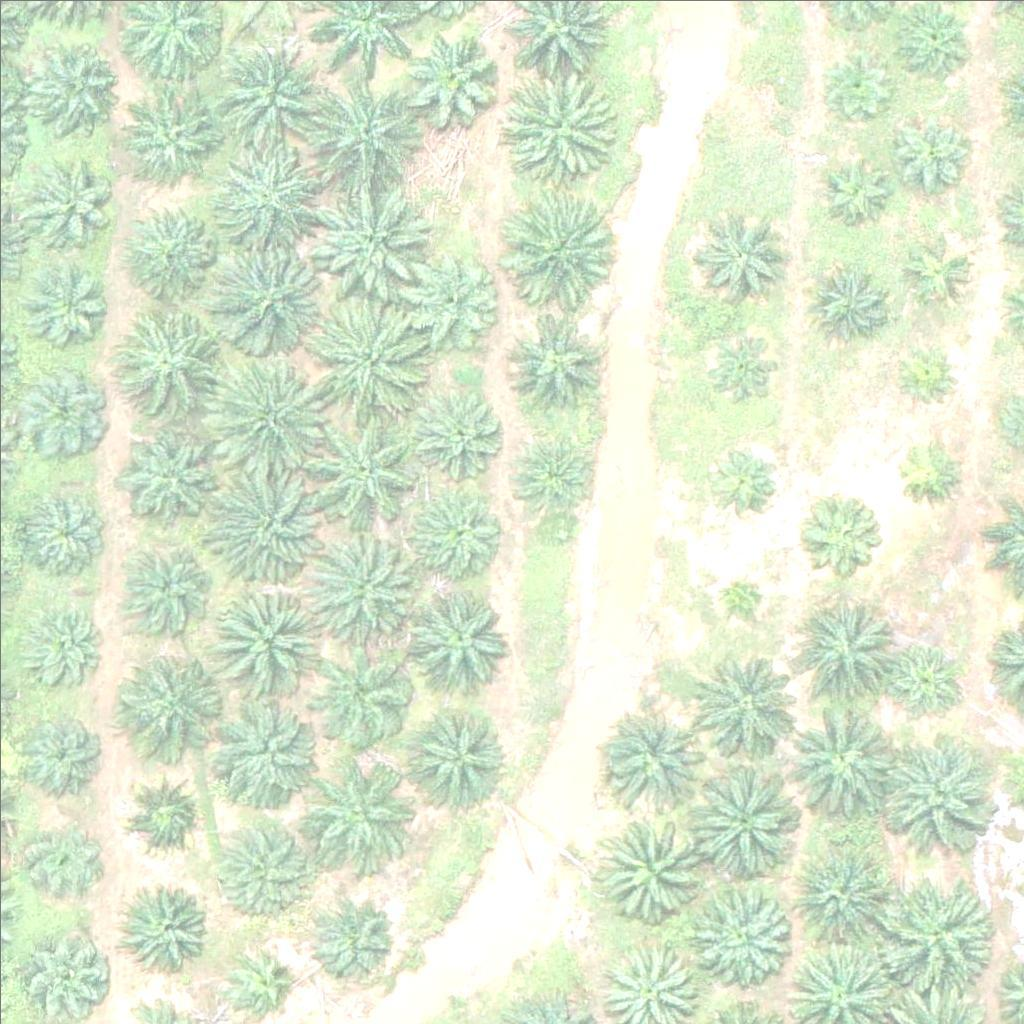Kelapa_Sawit: (500, 196, 613, 310), (316, 180, 429, 293), (504, 73, 617, 186), (207, 359, 320, 472), (207, 470, 320, 583), (208, 588, 321, 701), (207, 703, 320, 816), (310, 528, 423, 641), (308, 299, 421, 412), (691, 763, 804, 876), (694, 646, 807, 759), (876, 882, 989, 995), (879, 734, 992, 847), (212, 141, 324, 255), (211, 28, 323, 142), (204, 244, 316, 358), (788, 703, 900, 817), (306, 82, 418, 195), (112, 644, 224, 757), (110, 294, 222, 407), (304, 414, 416, 527), (596, 811, 708, 924), (599, 703, 711, 816), (783, 594, 895, 707), (26, 33, 126, 134), (692, 203, 792, 304), (13, 358, 113, 459), (121, 418, 221, 519), (319, 758, 419, 859), (313, 646, 413, 747), (407, 492, 507, 593), (407, 584, 507, 685), (401, 710, 501, 811), (505, 312, 605, 413), (692, 884, 792, 985), (120, 76, 220, 176), (403, 27, 503, 127), (12, 480, 112, 580), (212, 824, 312, 924), (400, 250, 500, 350), (404, 391, 504, 491), (785, 847, 885, 947), (887, 109, 975, 198), (695, 321, 783, 410), (27, 159, 115, 247), (130, 205, 218, 293), (880, 633, 968, 721), (24, 262, 112, 350), (18, 815, 106, 903), (17, 703, 105, 791), (17, 598, 105, 686), (309, 895, 397, 983), (795, 496, 883, 584), (801, 257, 889, 345), (21, 932, 108, 1020), (123, 886, 210, 974), (698, 440, 785, 528), (123, 768, 210, 856), (126, 547, 213, 635), (511, 437, 598, 525), (818, 42, 893, 118), (219, 941, 294, 1017), (888, 432, 963, 507), (903, 232, 978, 307), (815, 148, 890, 223), (888, 336, 963, 411), (716, 563, 766, 613)
